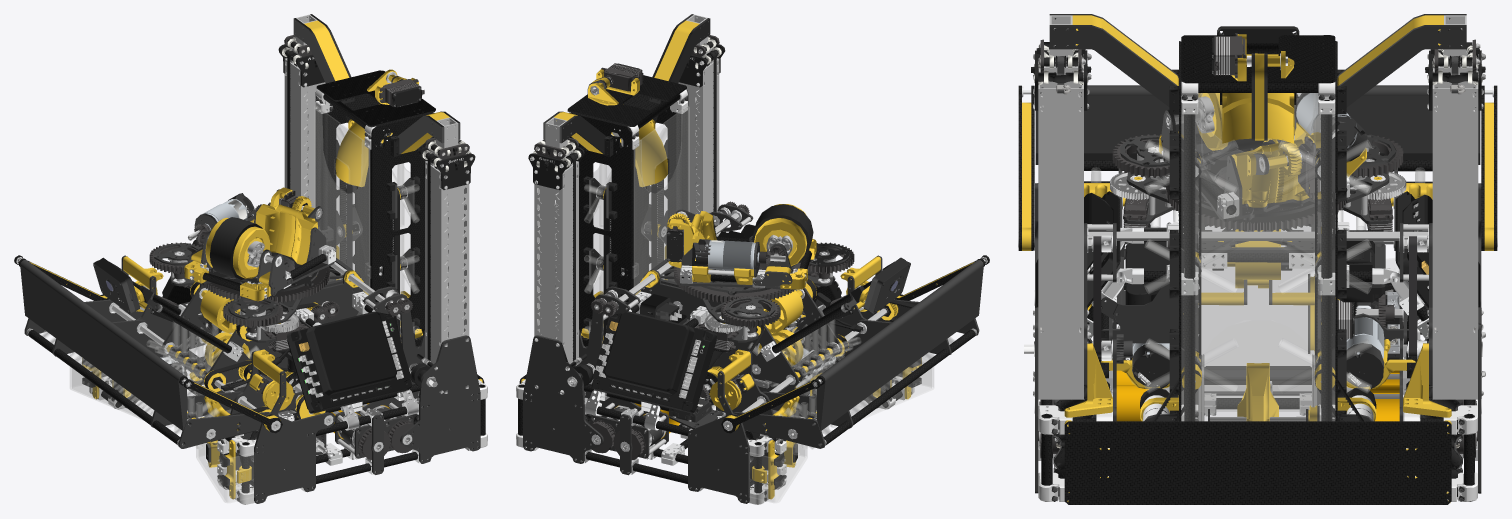
The model's file is kibo-robot-lite.glb.
3 views of the same model, side by side, from view 1: azimuth 30°, elevation 25°; view 2: azimuth 150°, elevation 25°; view 3: azimuth 270°, elevation 25° (orthographic). The views are drawn at different scales.
Visible parts, largest first — view 1: rear, frame, intake, shooter, elecL, transfer, turret, camera, elecR; view 2: rear, frame, intake, elecR, shooter, transfer, turret, camera, elecL; view 3: rear, frame, intake, shooter, elecL, transfer, turret, elecR, camera.
Boxes of the visible parts, left/top/right/bottom form: rear: left=135, top=14, right=475, bottom=458; frame: left=70, top=255, right=487, bottom=504; intake: left=14, top=255, right=282, bottom=448; shooter: left=176, top=187, right=398, bottom=312; elecL: left=221, top=291, right=418, bottom=443; transfer: left=161, top=269, right=410, bottom=411; turret: left=149, top=242, right=360, bottom=342; camera: left=93, top=257, right=237, bottom=355; elecR: left=139, top=204, right=261, bottom=335; rear: left=528, top=14, right=868, bottom=453; frame: left=516, top=255, right=933, bottom=504; intake: left=721, top=255, right=989, bottom=454; elecR: left=585, top=294, right=764, bottom=430; shooter: left=605, top=204, right=816, bottom=335; transfer: left=593, top=269, right=842, bottom=425; turret: left=643, top=242, right=854, bottom=352; camera: left=765, top=257, right=910, bottom=355; elecL: left=718, top=204, right=864, bottom=372; rear: left=1024, top=14, right=1485, bottom=432; frame: left=1034, top=183, right=1481, bottom=504; intake: left=1018, top=85, right=1497, bottom=395; shooter: left=1088, top=93, right=1428, bottom=240; elecL: left=1034, top=172, right=1183, bottom=343; transfer: left=1195, top=220, right=1402, bottom=421; turret: left=1112, top=134, right=1403, bottom=252; elecR: left=1335, top=171, right=1480, bottom=327; camera: left=1217, top=26, right=1299, bottom=57.
Size of the model in its own units: 0.4486 by 0.446 by 0.4196.
86 materials, 11 textured.
